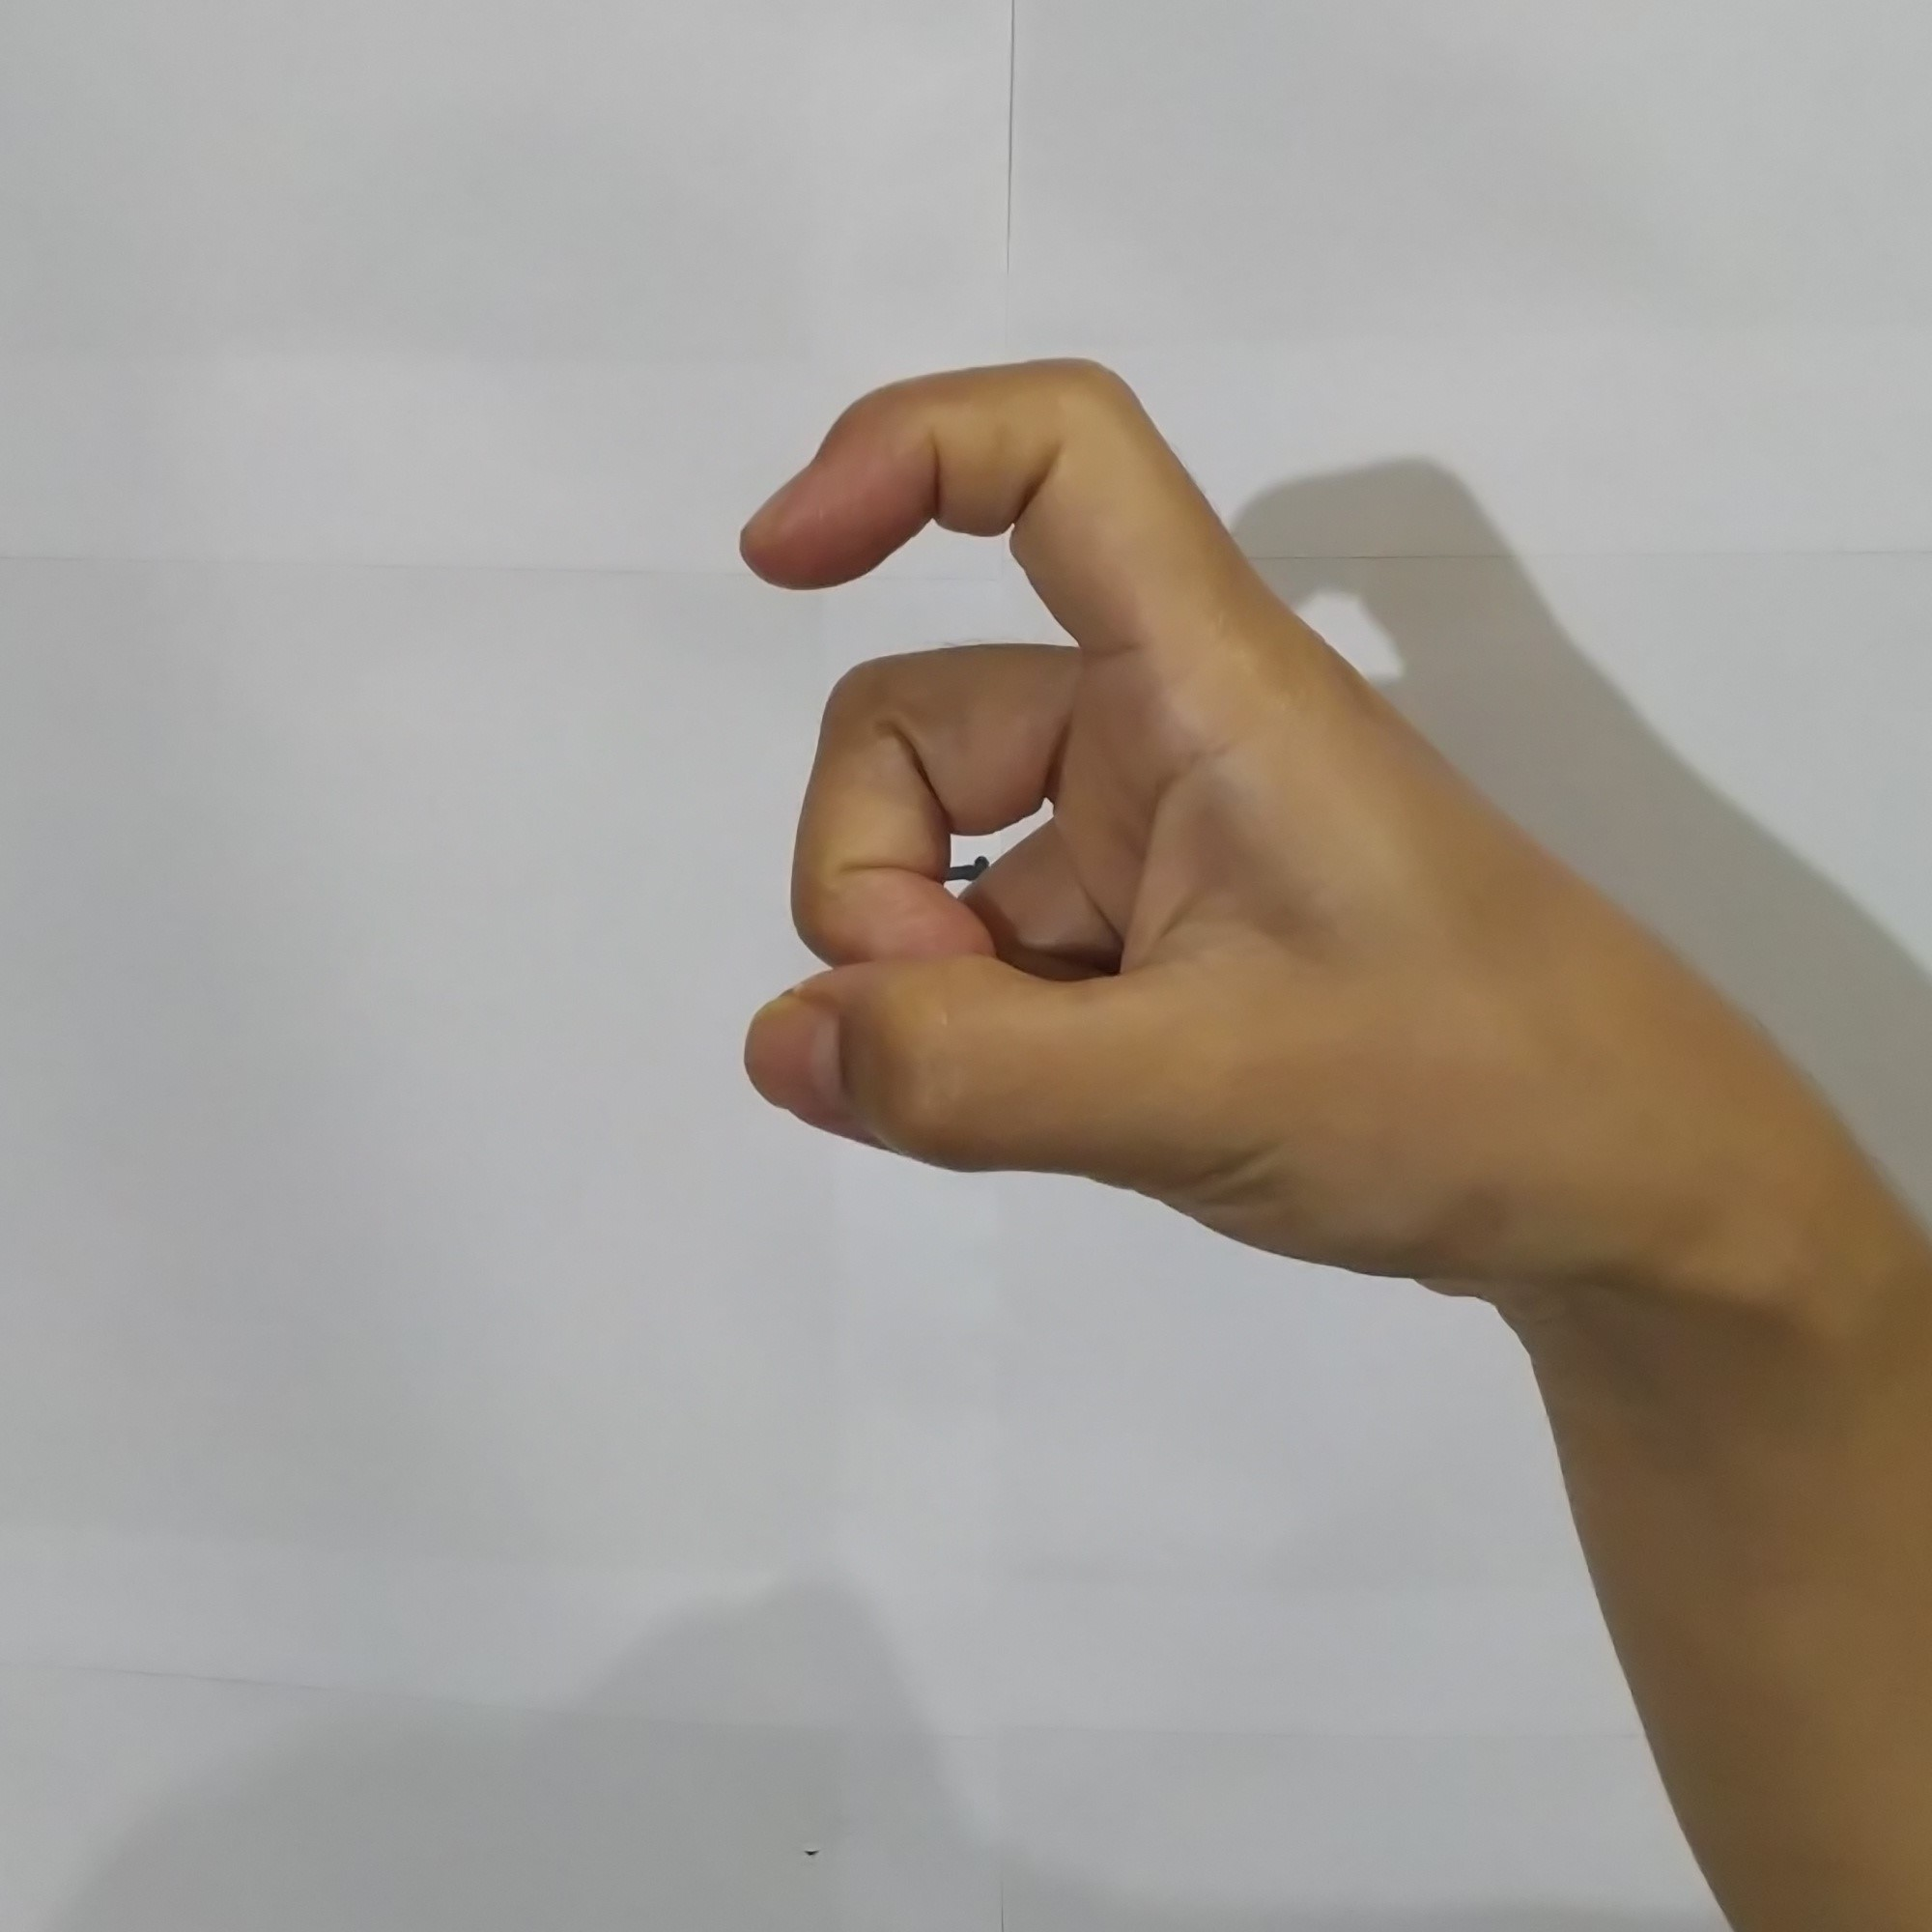X: (706, 333, 1794, 1329)
